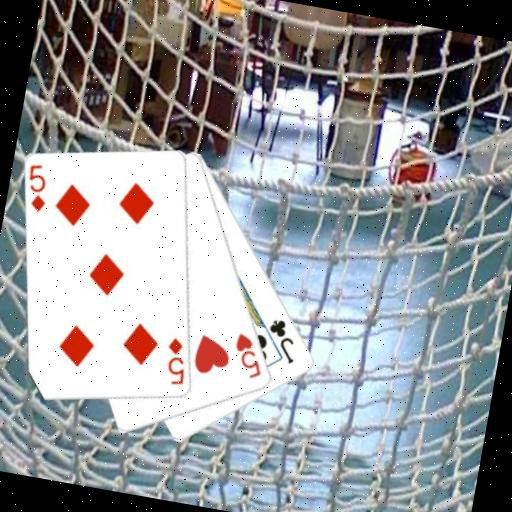5D: (19, 160, 54, 215), (159, 333, 193, 388)
5H: (226, 329, 269, 382)
JC: (260, 314, 303, 366)
